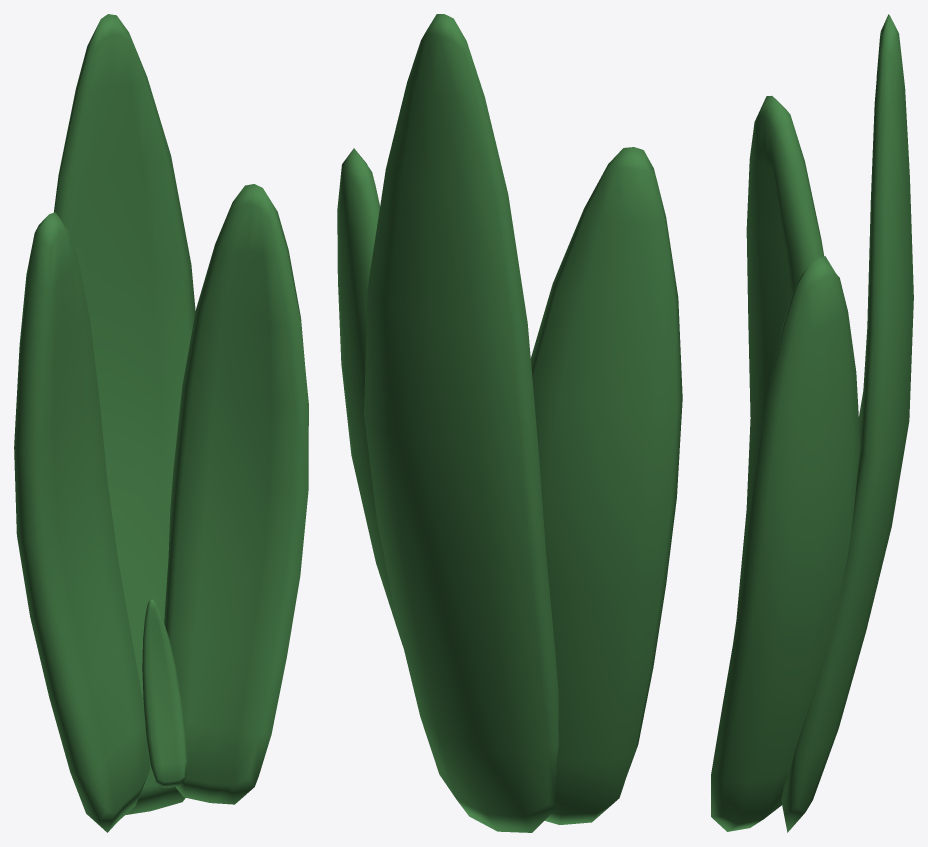
Rendered from plant 5.fbx.
3 views of the same model, side by side, from view 1: azimuth 30°, elevation 25°; view 2: azimuth 150°, elevation 25°; view 3: azimuth 270°, elevation 25° (orthographic). The views are drawn at different scales.
Parts seen in each view (by area): view 1: Plant1; view 2: Plant1; view 3: Plant1.
Part boxes in pixels (x1,y1,x2,y2): Plant1: (14,14,308,832); Plant1: (337,14,682,832); Plant1: (711,14,913,832).
Bounding box in the file's own units: 20.85 × 91.73 × 36.92.
